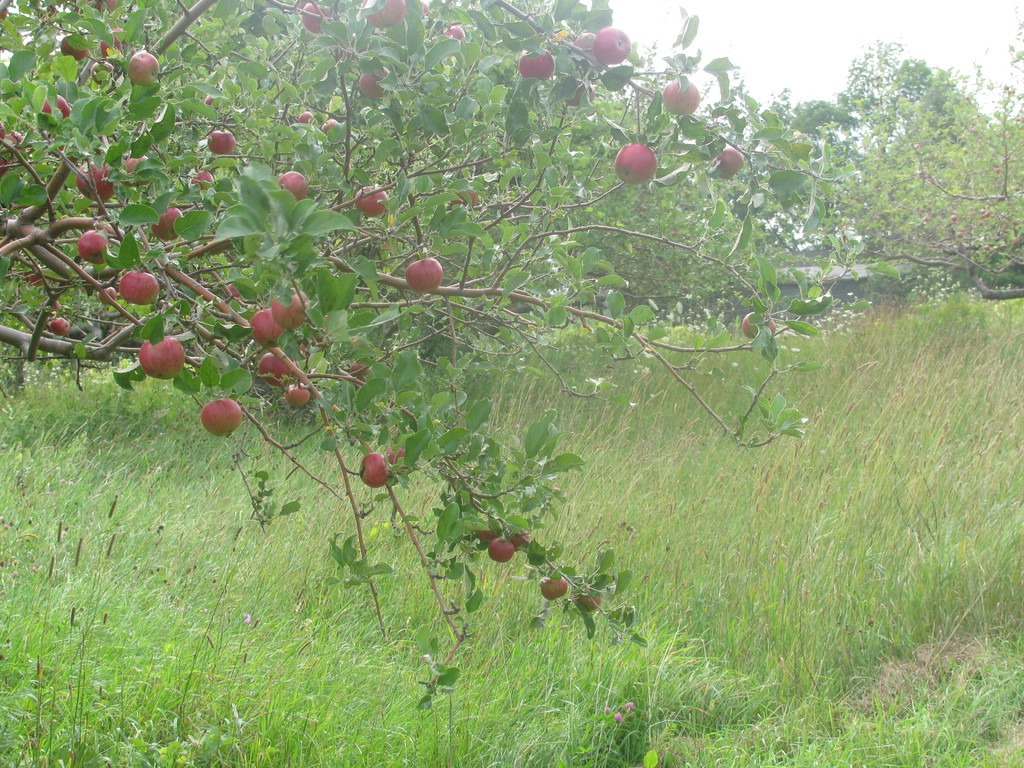Apple: (140, 334, 185, 380), (75, 159, 117, 203), (615, 142, 657, 183), (202, 396, 241, 439), (271, 289, 308, 328), (595, 26, 631, 65), (119, 270, 158, 305), (515, 50, 556, 83), (663, 75, 698, 113), (359, 64, 392, 103), (355, 183, 391, 218), (406, 259, 444, 292), (359, 0, 406, 26), (128, 48, 161, 84), (78, 229, 110, 265), (122, 151, 154, 186), (296, 1, 332, 32), (260, 353, 293, 386), (147, 207, 182, 238), (358, 452, 387, 489), (252, 311, 282, 346), (743, 311, 775, 341), (103, 27, 131, 60), (716, 148, 742, 182), (277, 171, 308, 199), (38, 95, 71, 119), (568, 78, 595, 104), (60, 37, 88, 62), (540, 574, 568, 599), (342, 360, 373, 382), (208, 129, 234, 154), (488, 536, 514, 561), (474, 515, 501, 539), (2, 131, 30, 153), (284, 383, 314, 403), (87, 58, 113, 81), (572, 590, 600, 611), (382, 447, 406, 469), (574, 34, 593, 58), (50, 317, 71, 336), (192, 170, 214, 188), (506, 529, 528, 546), (452, 191, 483, 203), (99, 284, 117, 302), (94, 0, 115, 14), (28, 263, 40, 285), (324, 117, 337, 137), (297, 111, 316, 122), (444, 26, 467, 35), (0, 151, 8, 176), (225, 284, 239, 298), (419, 0, 431, 14), (206, 94, 214, 104), (0, 121, 3, 144)
